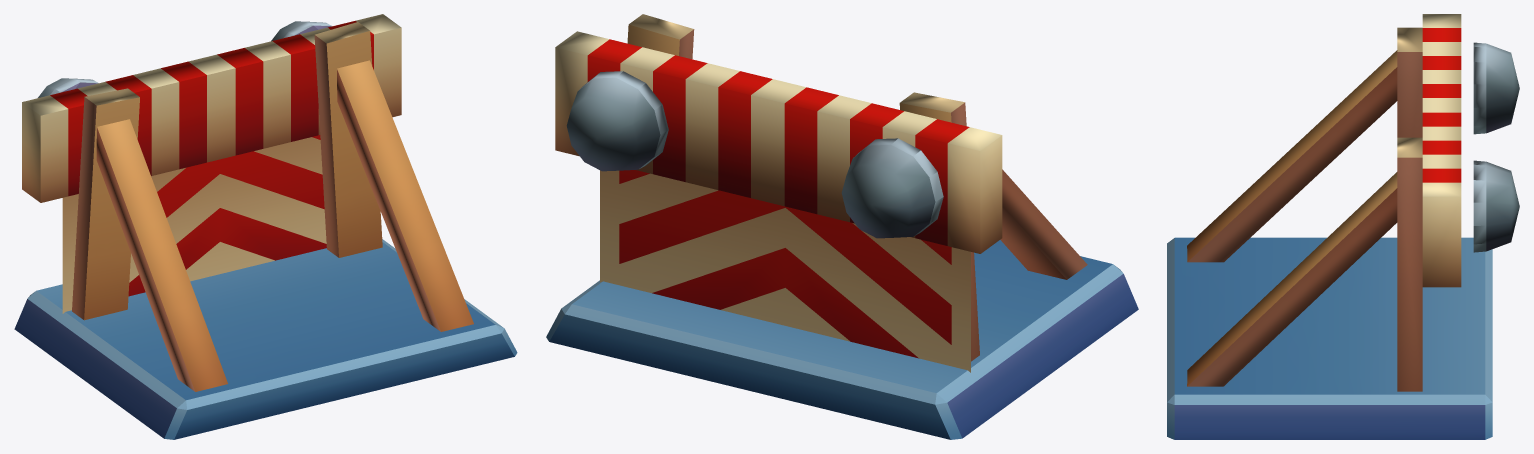
File: 1.100_SanFrancisco_blocker_jump.glb
3 views of the same model, side by side, from view 1: azimuth 30°, elevation 25°; view 2: azimuth 150°, elevation 25°; view 3: azimuth 270°, elevation 25° (orthographic). The views are drawn at different scales.
Parts seen in each view (by area): view 1: 1.100_SanFrancisco_blocker_jump; view 2: 1.100_SanFrancisco_blocker_jump; view 3: 1.100_SanFrancisco_blocker_jump.
Boxes of the visible parts, left/top/right/bottom form: 1.100_SanFrancisco_blocker_jump: left=14, top=14, right=517, bottom=439; 1.100_SanFrancisco_blocker_jump: left=546, top=14, right=1138, bottom=439; 1.100_SanFrancisco_blocker_jump: left=1167, top=14, right=1519, bottom=439.
Size of the model in its own units: 18.98 by 12.71 by 15.5.
Materials: 2 (2 with a texture image).
